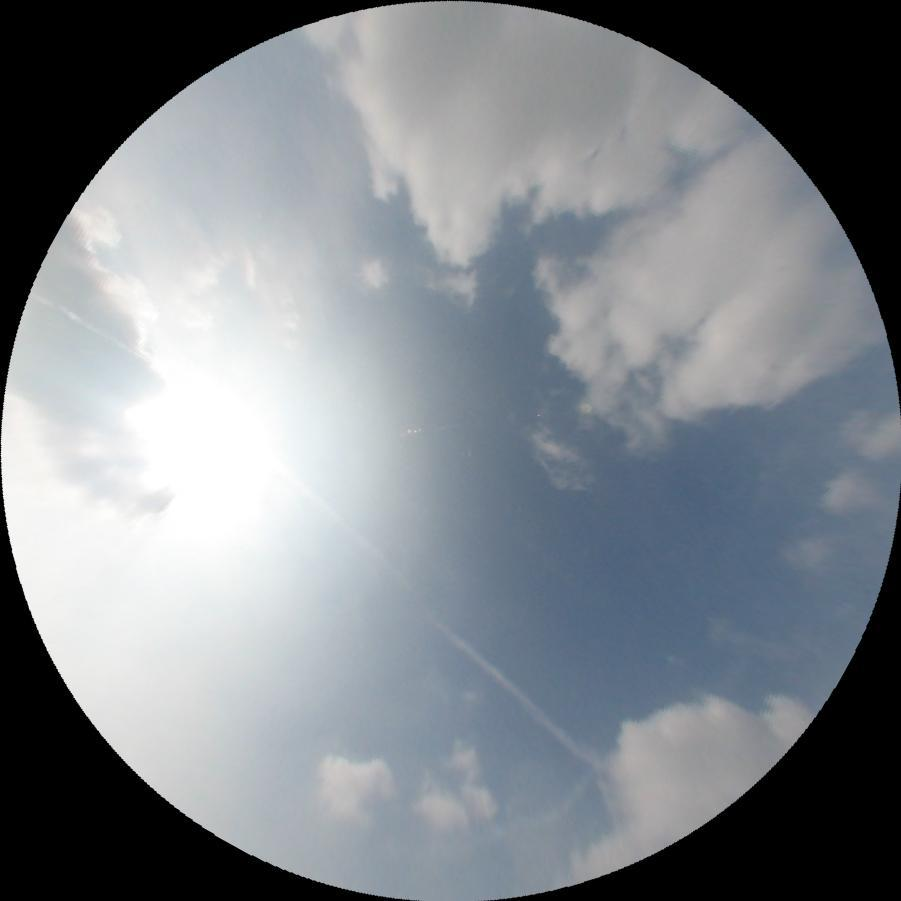contrail veryold: (281, 471, 606, 782)
sun: (106, 350, 299, 553)
